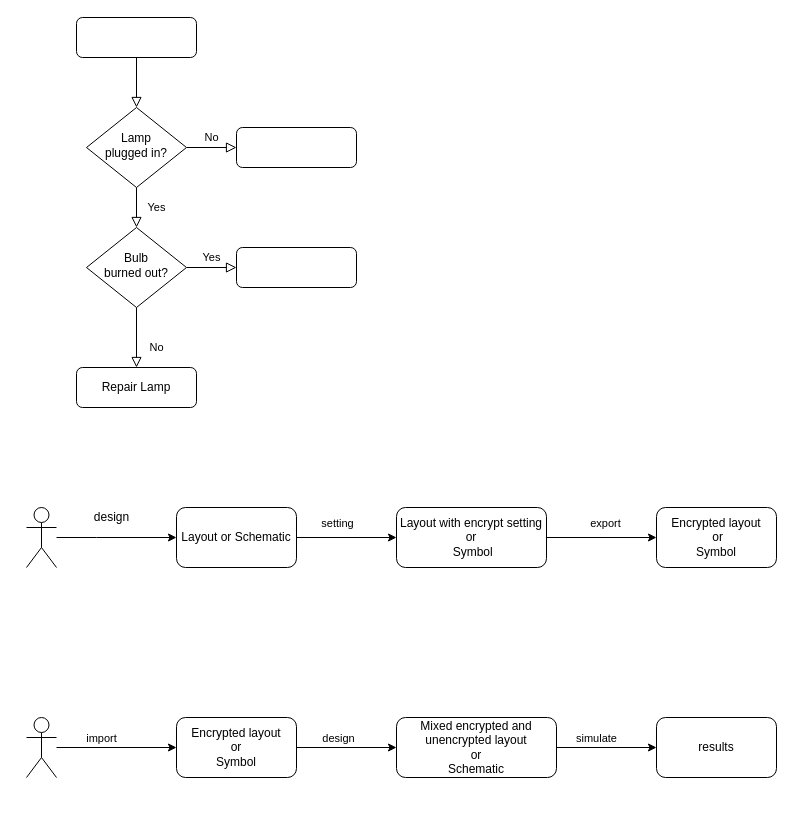
Image size: 794x816. Some labels were removed from this diagram. The centre of each missing label's shape, as x and y in pixels:
Designer: the point at 41,537
Lamp doesn't work: the point at 136,37
Plug in lamp: the point at 296,147
Replace Bulb: the point at 296,267
User: the point at 41,747
